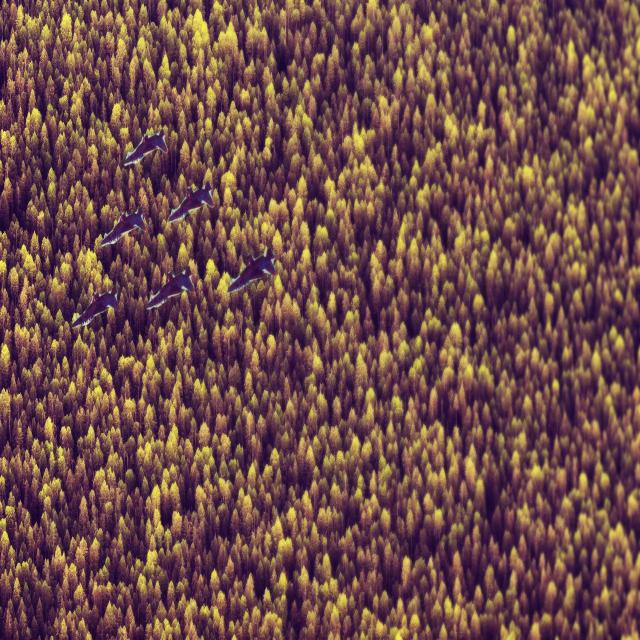airplane: (226, 245, 276, 293), (146, 266, 194, 311), (167, 180, 215, 223), (71, 286, 119, 328), (100, 205, 146, 248), (122, 128, 168, 168)
